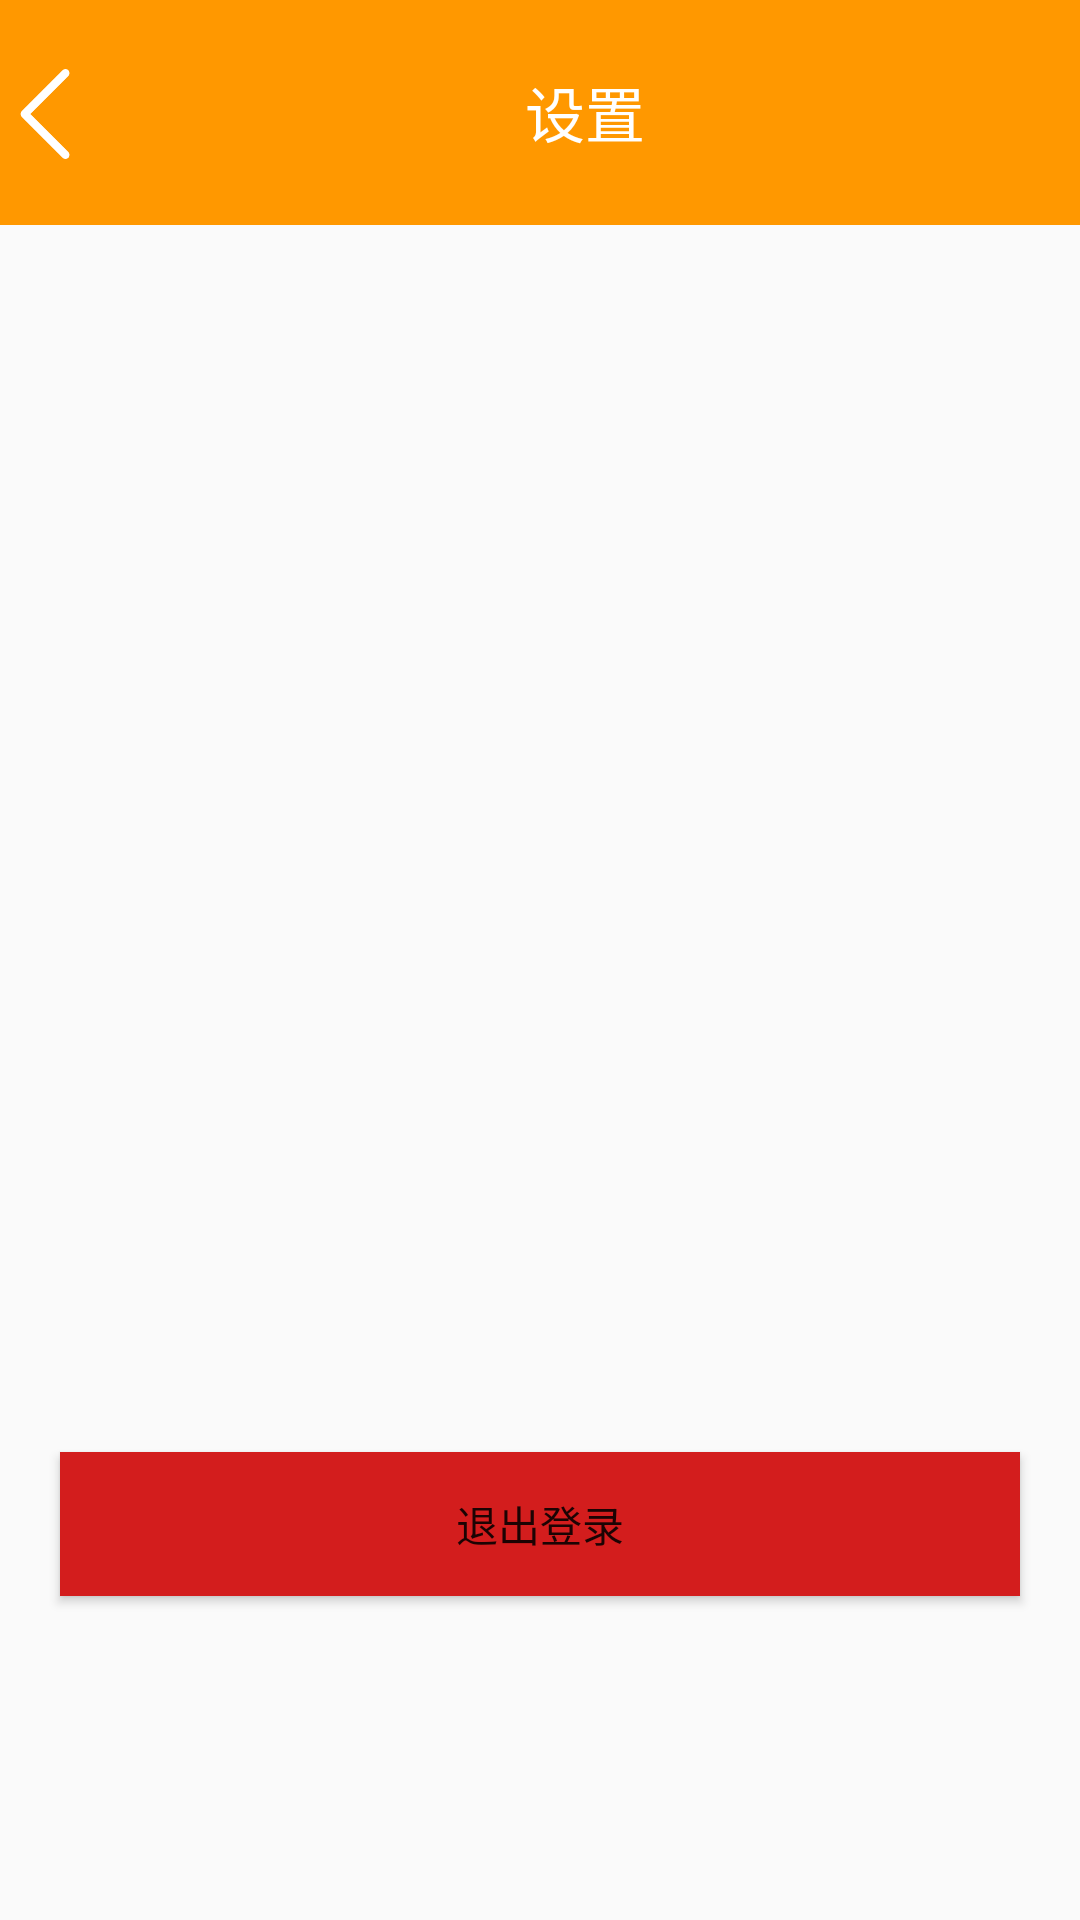

Icons on this 1080px×1920px Android screen, each with its box as (x1, y1, x2, y2):
arrow back: (20, 69, 70, 159)
